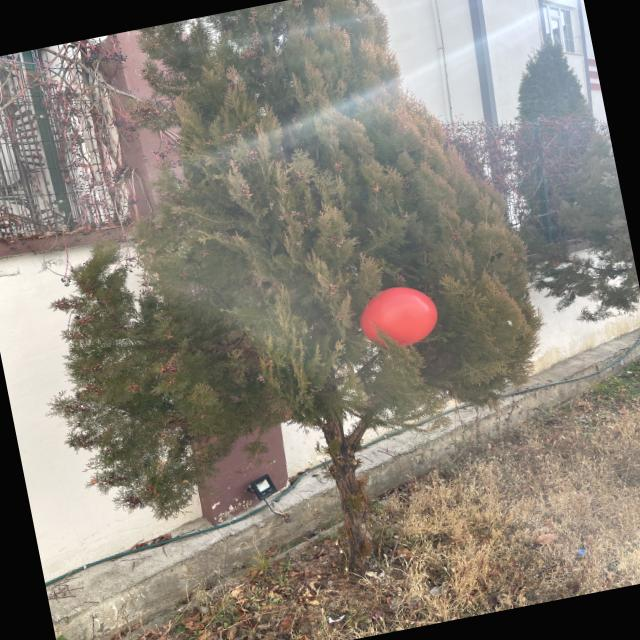balloon: (361, 287, 437, 345)
